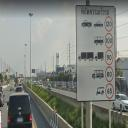speed_limit_100: (104, 32, 114, 49)
speed_limit_120: (104, 15, 114, 32)
speed_limit_80: (104, 66, 115, 83)
speed_limit_90: (105, 49, 114, 66)
